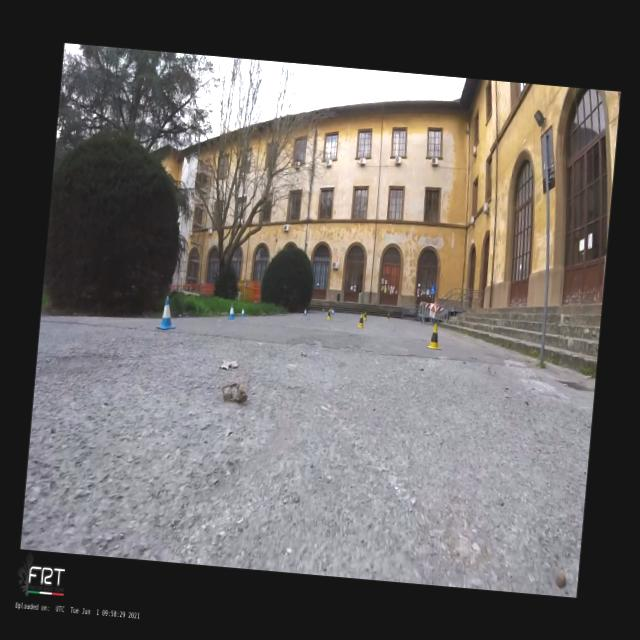blue_cone: (156, 294, 178, 330), (227, 302, 236, 320), (240, 308, 246, 316), (304, 307, 306, 315), (332, 308, 334, 314)
yellow_cone: (425, 322, 443, 350), (356, 312, 365, 328), (326, 308, 332, 320), (362, 311, 368, 321), (386, 312, 390, 321)
